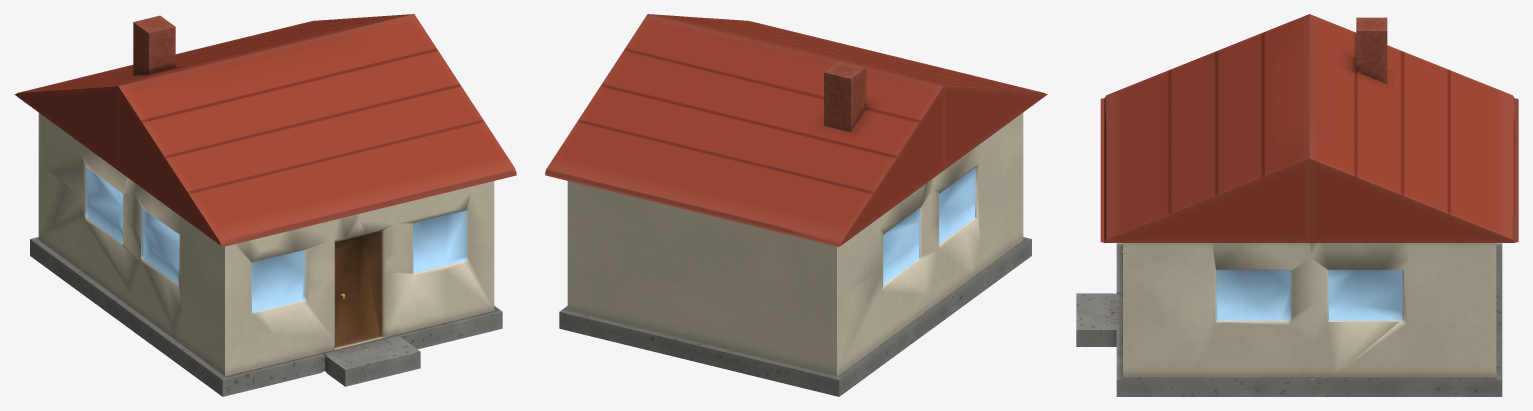
Rendered from house_edits.glb.
The picture shows the model from 3 angles, left to right: view 1: azimuth 30°, elevation 25°; view 2: azimuth 150°, elevation 25°; view 3: azimuth 270°, elevation 25°; orthographic projection.
Visible parts, largest first — view 1: house_edits; view 2: house_edits; view 3: house_edits.
Part boxes in pixels (x1,y1,x2,y2): house_edits: (14, 14, 516, 396); house_edits: (545, 14, 1047, 396); house_edits: (1076, 14, 1518, 396).
Size of the model in its own units: 5.5 by 4.7 by 7.11.
Materials: 1 (1 with a texture image).
